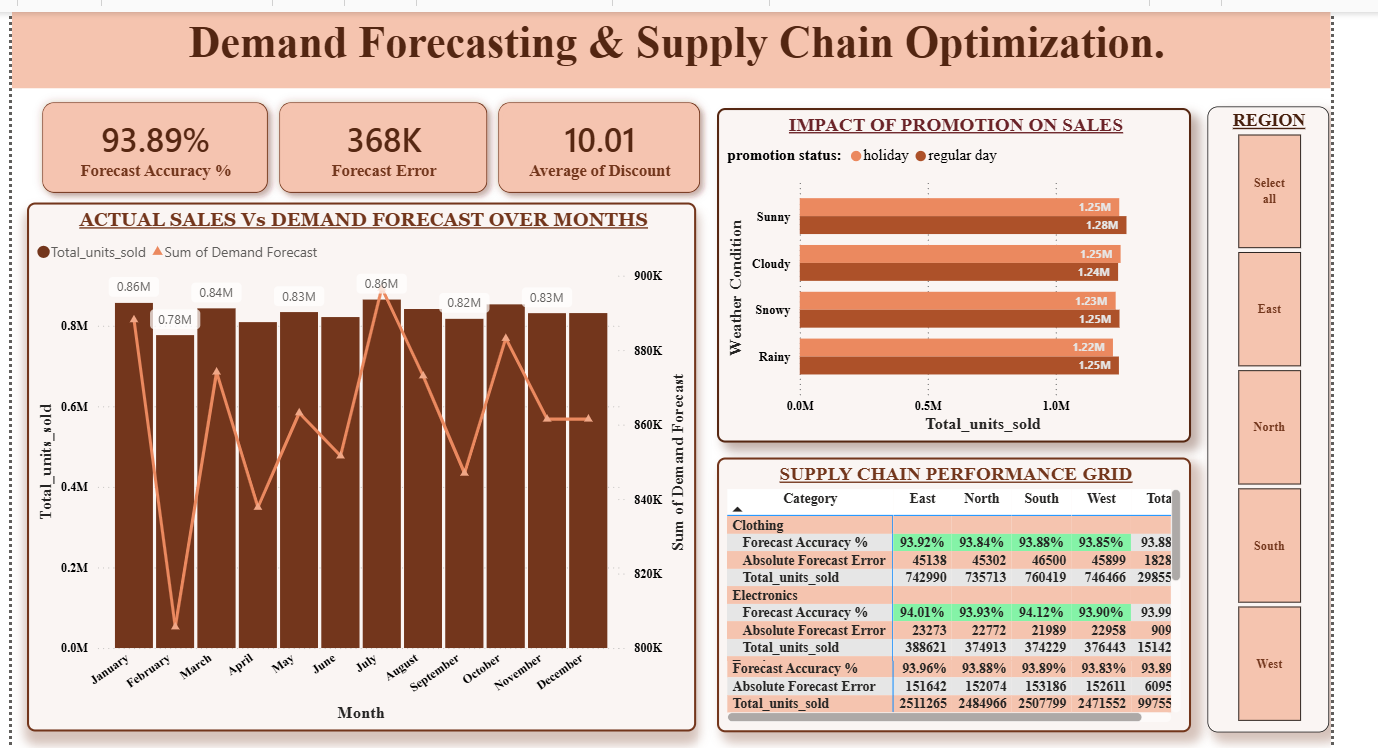

The dashboard page shown, as its layout file describes it:
{"tool":"powerbi","page":{"name":"Page 2","canvas":[1280,720],"ordinal":1},"visuals":[{"type":"textbox","box":[0,0,1279.5,74.2],"z":0},{"type":"cardVisual","fields":{"Data":["Measure.Forecast Accuracy %"]},"box":[0,57.5,277.1,146.9],"z":1000},{"type":"cardVisual","fields":{"Data":["Measure.Forecast Error"]},"box":[230.2,57.5,260.4,146.9],"z":2000},{"type":"cardVisual","fields":{"Data":["Avg(Fact_inventory.Discount)"]},"box":[442.1,57.5,254.4,146.9],"z":3000},{"type":"lineStackedColumnComboChart","title":"ACTUAL  SALES Vs DEMAND FORECAST OVER MONTHS","fields":{"Category":["Fact_inventory.Date.Variation.Date Hierarchy.Month"],"Y":["Measure.Total_units_sold"],"Y2":["Sum(Fact_inventory.Demand Forecast)"]},"box":[15.1,184.7,649.6,513.3],"z":4000},{"type":"clusteredBarChart","title":"IMPACT OF PROMOTION  ON SALES","fields":{"Category":["Fact_inventory.Weather Condition"],"Y":["Measure.Total_units_sold"],"Series":["Fact_inventory.promotion status"]},"box":[684.1,93.2,460,324.6],"z":5000},{"type":"pivotTable","title":"SUPPLY CHAIN PERFORMANCE GRID","fields":{"Rows":["Dim_product.Category","Dim_product.Product ID"],"Columns":["Dim_region.Region"],"Values":["Measure.Forecast Accuracy %","Measure.Absolute Forecast Error","Measure.Total_units_sold"]},"box":[684.1,432.3,460,266.4],"z":6000},{"type":"slicer","title":"REGION","fields":{"Values":["Fact_inventory.Region"]},"box":[1159.9,92.4,118.1,607.2],"z":7000}]}

Visuals, with their boxes on the page's 1280x720 design canvas (x1, y1, x2, y2). These are canvas units, not pixel positions in the 1378x748 screenshot, which may show the page scaled, cropped or inside an application window:
textbox: x1=0, y1=0, x2=1280, y2=74
cardVisual - Measure.Forecast Accuracy %: x1=0, y1=58, x2=277, y2=204
cardVisual - Measure.Forecast Error: x1=230, y1=58, x2=491, y2=204
cardVisual - Avg(Fact_inventory.Discount): x1=442, y1=58, x2=696, y2=204
"ACTUAL  SALES Vs DEMAND FORECAST OVER MONTHS" lineStackedColumnComboChart: x1=15, y1=185, x2=665, y2=698
"IMPACT OF PROMOTION  ON SALES" clusteredBarChart: x1=684, y1=93, x2=1144, y2=418
"SUPPLY CHAIN PERFORMANCE GRID" pivotTable: x1=684, y1=432, x2=1144, y2=699
"REGION" slicer: x1=1160, y1=92, x2=1278, y2=700
